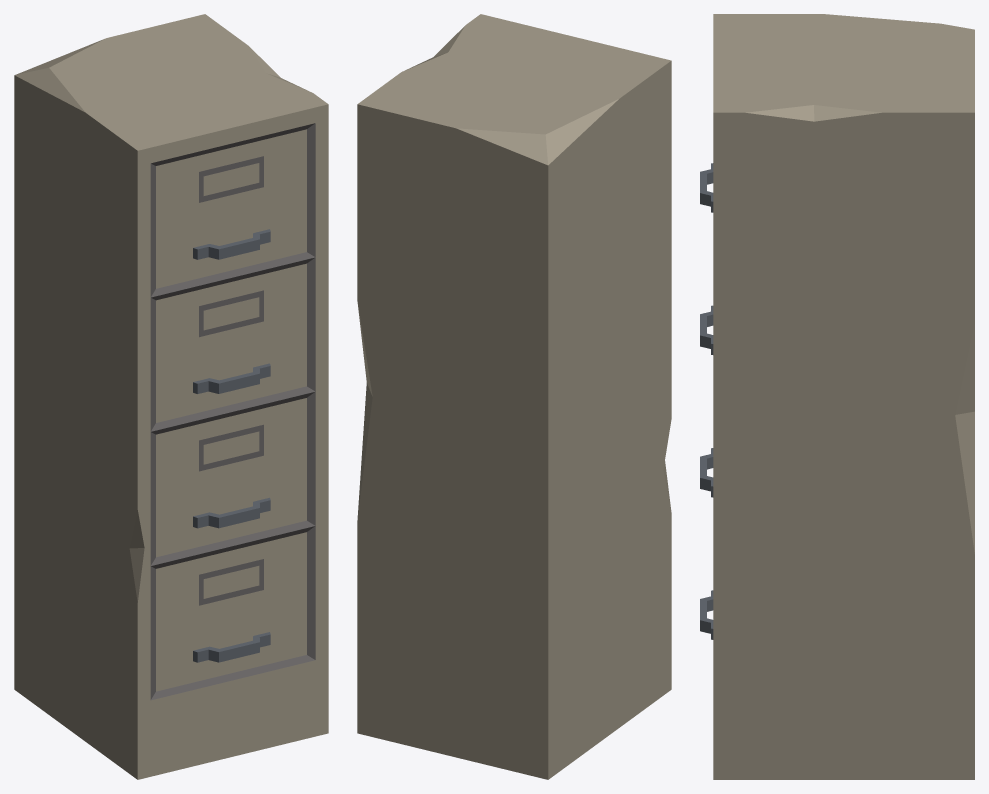
The model's file is SM_Prop_Cabinets_01.obj.
The picture shows the model from 3 angles, left to right: view 1: azimuth 30°, elevation 25°; view 2: azimuth 150°, elevation 25°; view 3: azimuth 270°, elevation 25°; orthographic projection. The views are drawn at different scales.
Visible parts, largest first — view 1: SM_Prop_Cabinets_01_0; view 2: SM_Prop_Cabinets_01_0; view 3: SM_Prop_Cabinets_01_0.
Part boxes in pixels (bbox=[...]): SM_Prop_Cabinets_01_0: bbox=[14, 14, 328, 779]; SM_Prop_Cabinets_01_0: bbox=[357, 14, 671, 779]; SM_Prop_Cabinets_01_0: bbox=[700, 14, 974, 779].
Size of the model in its own units: 0.4799 by 1.51 by 0.5644.
Materials: 1 (1 with a texture image).
